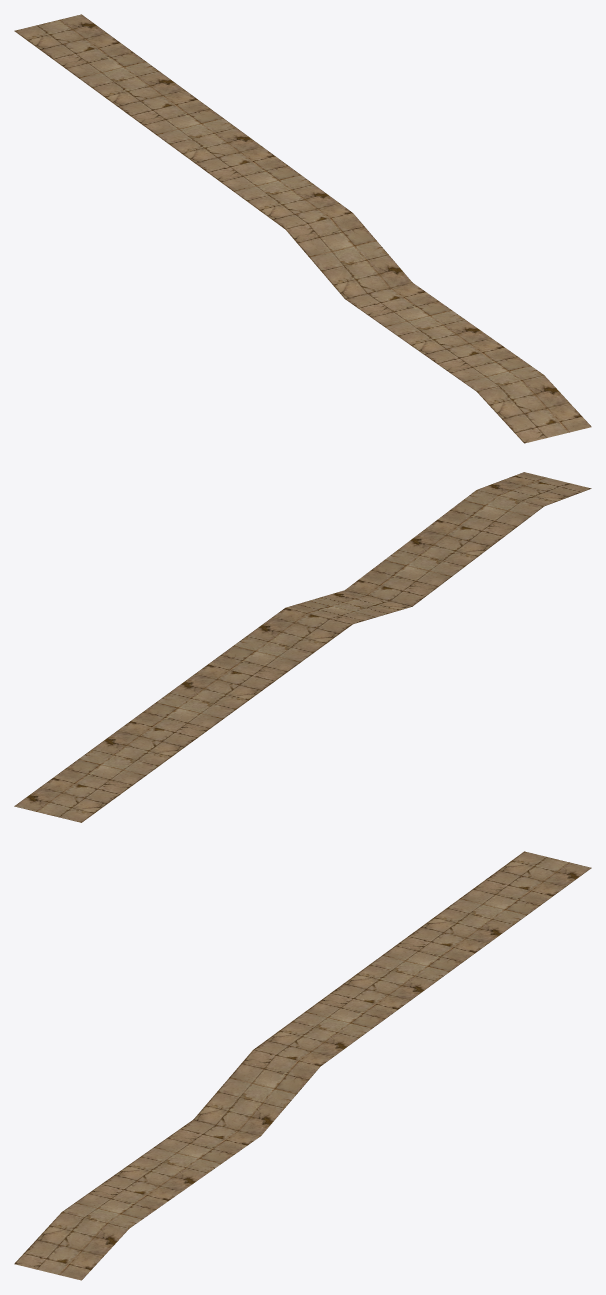
File: Ground21_Terrain_LostTemple_001.FBX
The picture shows the model from 3 angles, top to bottom: view 1: azimuth 30°, elevation 25°; view 2: azimuth 150°, elevation 25°; view 3: azimuth 330°, elevation 25°; orthographic projection.
Visible parts, largest first — view 1: Ground21_Terrain_LostTemple_001; view 2: Ground21_Terrain_LostTemple_001; view 3: Ground21_Terrain_LostTemple_001.
Part boxes in pixels (bbox=[...]): Ground21_Terrain_LostTemple_001: bbox=[14, 14, 591, 443]; Ground21_Terrain_LostTemple_001: bbox=[14, 472, 591, 822]; Ground21_Terrain_LostTemple_001: bbox=[14, 851, 591, 1280].
Size of the model in its own units: 327 by 181 by 4269.
Materials: 1 (1 with a texture image).
